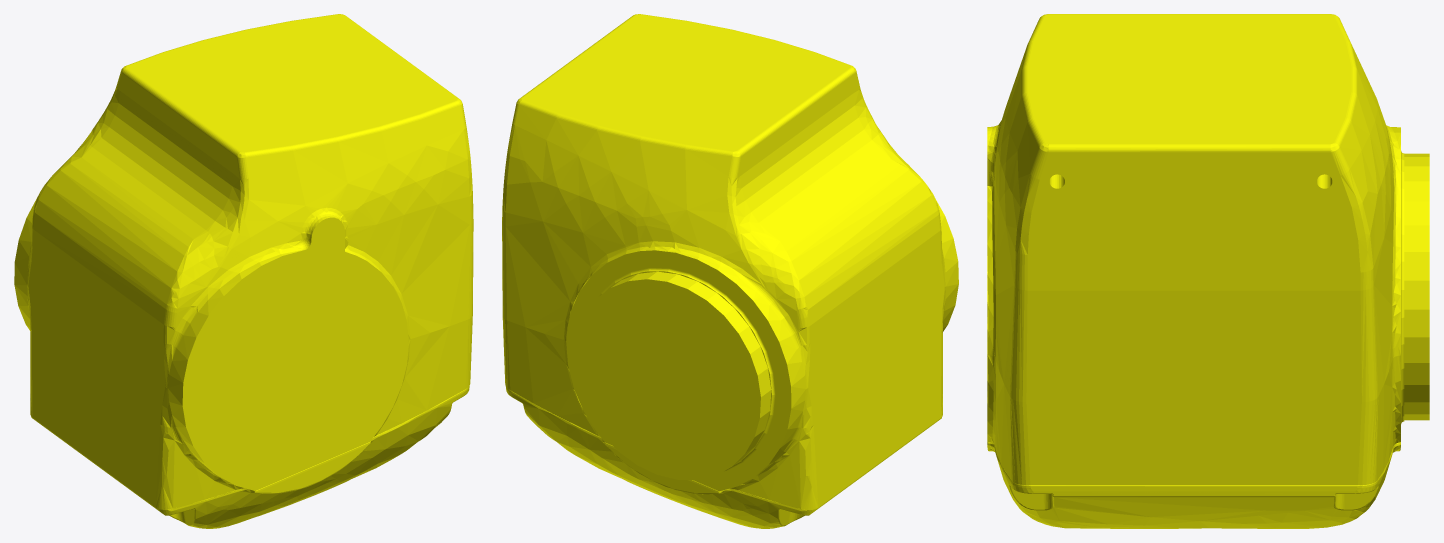
3 renders of one model, left to right at view 1: azimuth 30°, elevation 25°; view 2: azimuth 150°, elevation 25°; view 3: azimuth 270°, elevation 25°, orthographic. The views are drawn at different scales.
Visible parts, largest first — view 1: node; view 2: node; view 3: node.
Part boxes in pixels (bbox=[...]): node: bbox=[14, 14, 473, 528]; node: bbox=[502, 14, 958, 528]; node: bbox=[987, 14, 1429, 528].
Bounding box in the file's own units: 138 × 163 × 139.
